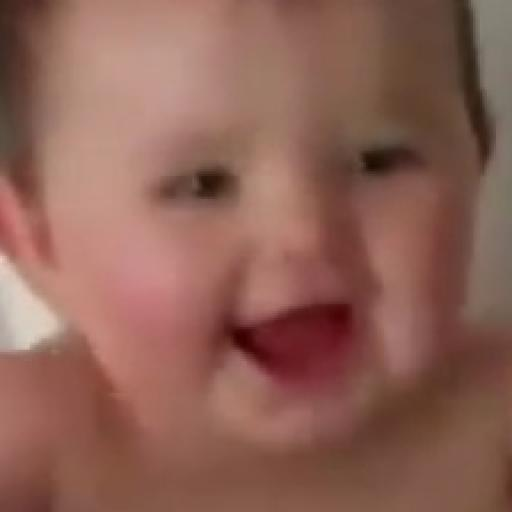Autism: (9, 11, 512, 512)
